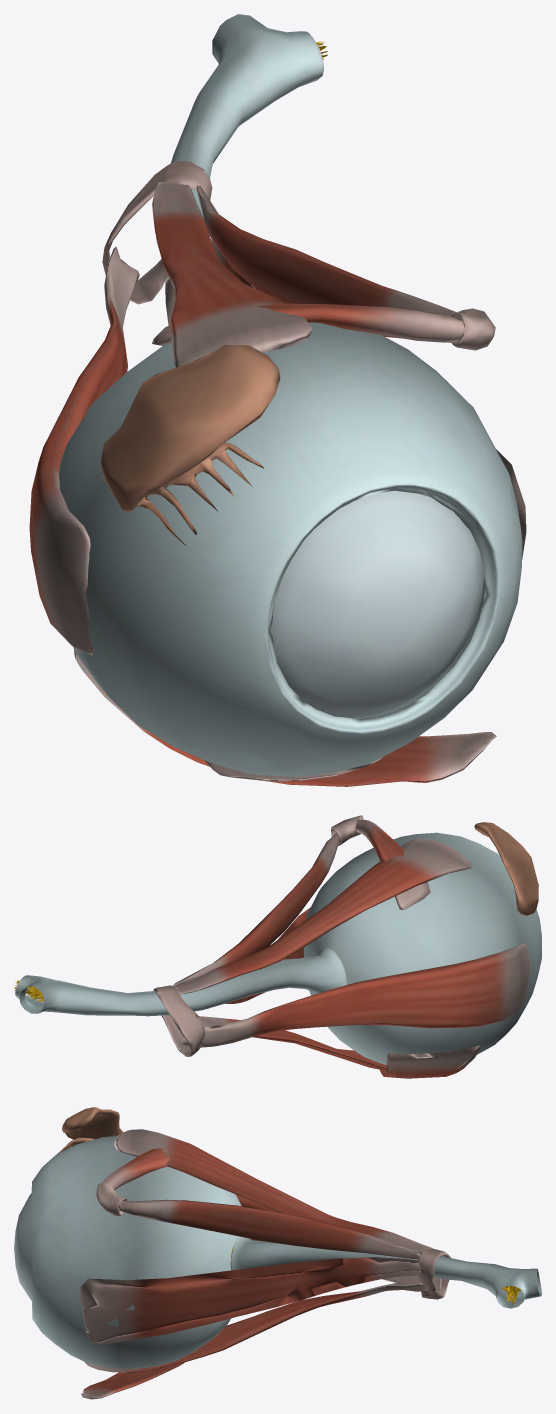
The model's file is eye-orbit.glb.
The picture shows the model from 3 angles, top to bottom: view 1: azimuth 30°, elevation 25°; view 2: azimuth 150°, elevation 25°; view 3: azimuth 270°, elevation 25°; orthographic projection. The views are drawn at different scales.
Visible parts, largest first — view 1: Right_sclera, Right_cornea, Right_lacrimal_gland, Right_lateral_rectus_muscle, Right_superior_oblique_muscle, Right_superior_rectus_muscle, Right_optic_sheath, Right_inferior_oblique_muscle, Right_annulus_of_Zinn, Right_inferior_rectus_muscle, Right_trochlea, Right_medial_rectus_muscle; view 2: Right_sclera, Right_lateral_rectus_muscle, Right_optic_sheath, Right_superior_rectus_muscle, Right_superior_oblique_muscle, Right_lacrimal_gland, Right_inferior_oblique_muscle, Right_annulus_of_Zinn, Right_inferior_rectus_muscle, Right_trochlea, Right_medial_rectus_muscle; view 3: Right_sclera, Right_medial_rectus_muscle, Right_superior_oblique_muscle, Right_superior_rectus_muscle, Right_optic_sheath, Right_inferior_rectus_muscle, Right_lacrimal_gland, Right_cornea, Right_inferior_oblique_muscle, Right_annulus_of_Zinn, Right_trochlea, Right_lateral_rectus_muscle.
Part boxes in pixels (left/top/right/bottom): Right_sclera: left=59, top=322, right=522, bottom=776; Right_cornea: left=271, top=490, right=484, bottom=717; Right_lacrimal_gland: left=101, top=345, right=280, bottom=545; Right_lateral_rectus_muscle: left=29, top=246, right=139, bottom=655; Right_superior_oblique_muscle: left=152, top=185, right=464, bottom=345; Right_superior_rectus_muscle: left=152, top=181, right=312, bottom=367; Right_optic_sheath: left=156, top=14, right=323, bottom=289; Right_inferior_oblique_muscle: left=74, top=650, right=496, bottom=786; Right_annulus_of_Zinn: left=102, top=161, right=212, bottom=304; Right_inferior_rectus_muscle: left=165, top=276, right=382, bottom=781; Right_trochlea: left=450, top=308, right=495, bottom=350; Right_medial_rectus_muscle: left=205, top=193, right=526, bottom=559; Right_sclera: left=304, top=832, right=541, bottom=1064; Right_lateral_rectus_muscle: left=182, top=943, right=530, bottom=1047; Right_optic_sheath: left=15, top=947, right=346, bottom=1016; Right_superior_rectus_muscle: left=177, top=838, right=471, bottom=994; Right_superior_oblique_muscle: left=173, top=819, right=430, bottom=986; Right_lacrimal_gland: left=474, top=822, right=538, bottom=915; Right_inferior_oblique_muscle: left=380, top=1045, right=480, bottom=1078; Right_annulus_of_Zinn: left=153, top=985, right=205, bottom=1056; Right_inferior_rectus_muscle: left=198, top=1016, right=386, bottom=1070; Right_trochlea: left=331, top=815, right=363, bottom=845; Right_medial_rectus_muscle: left=225, top=907, right=310, bottom=1003; Right_sclera: left=31, top=1136, right=241, bottom=1369; Right_medial_rectus_muscle: left=80, top=1257, right=422, bottom=1344; Right_superior_oblique_muscle: left=103, top=1148, right=420, bottom=1259; Right_superior_rectus_muscle: left=114, top=1129, right=432, bottom=1252; Right_optic_sheath: left=230, top=1236, right=541, bottom=1308; Right_inferior_rectus_muscle: left=85, top=1282, right=425, bottom=1372; Right_lacrimal_gland: left=57, top=1107, right=123, bottom=1153; Right_cornea: left=14, top=1193, right=32, bottom=1301; Right_inferior_oblique_muscle: left=81, top=1362, right=184, bottom=1399; Right_annulus_of_Zinn: left=417, top=1248, right=451, bottom=1299; Right_trochlea: left=96, top=1182, right=127, bottom=1215; Right_lateral_rectus_muscle: left=235, top=1194, right=441, bottom=1290.
Size of the model in its own units: 0.0449 by 0.0326 by 0.0643.
14 materials, 14 textured.
